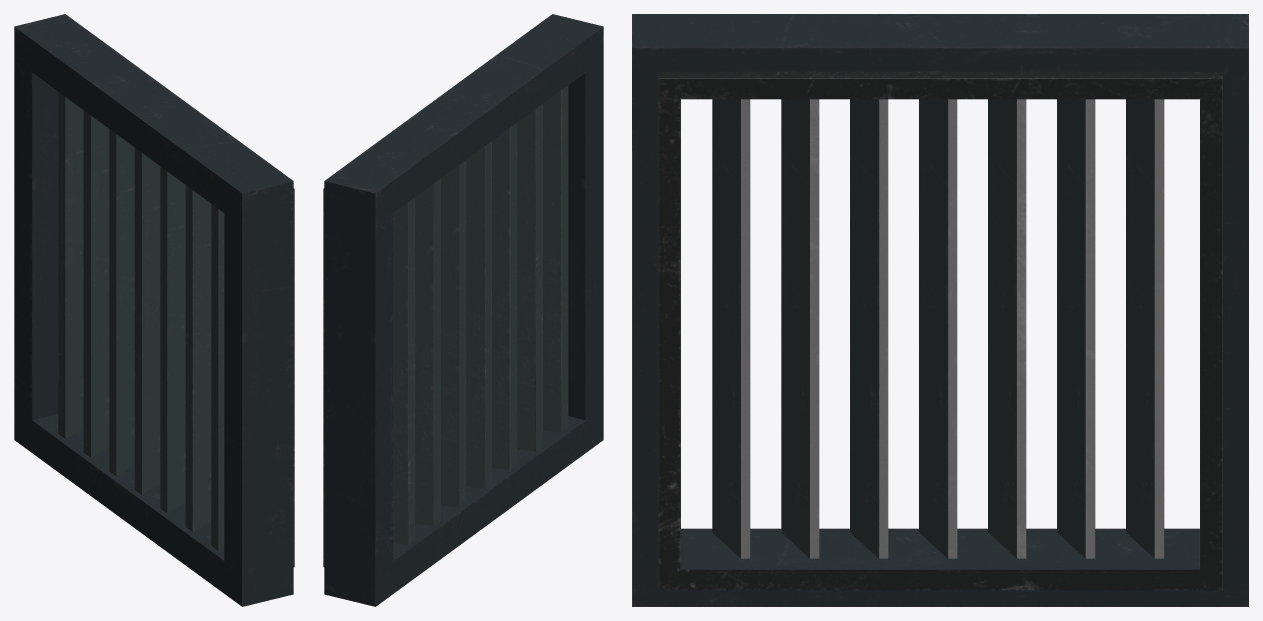
File: GasVent.gltf
The picture shows the model from 3 angles, left to right: view 1: azimuth 30°, elevation 25°; view 2: azimuth 150°, elevation 25°; view 3: azimuth 270°, elevation 25°; orthographic projection. The views are drawn at different scales.
Parts seen in each view (by area): view 1: Cube; view 2: Cube; view 3: Cube.
Part boxes in pixels (box(x1,y1,x2,y2)): Cube: box(14, 14, 294, 606); Cube: box(323, 14, 603, 606); Cube: box(632, 14, 1248, 606).
Size of the model in its own units: 0.3144 by 2 by 2.
1 material, 1 textured.
